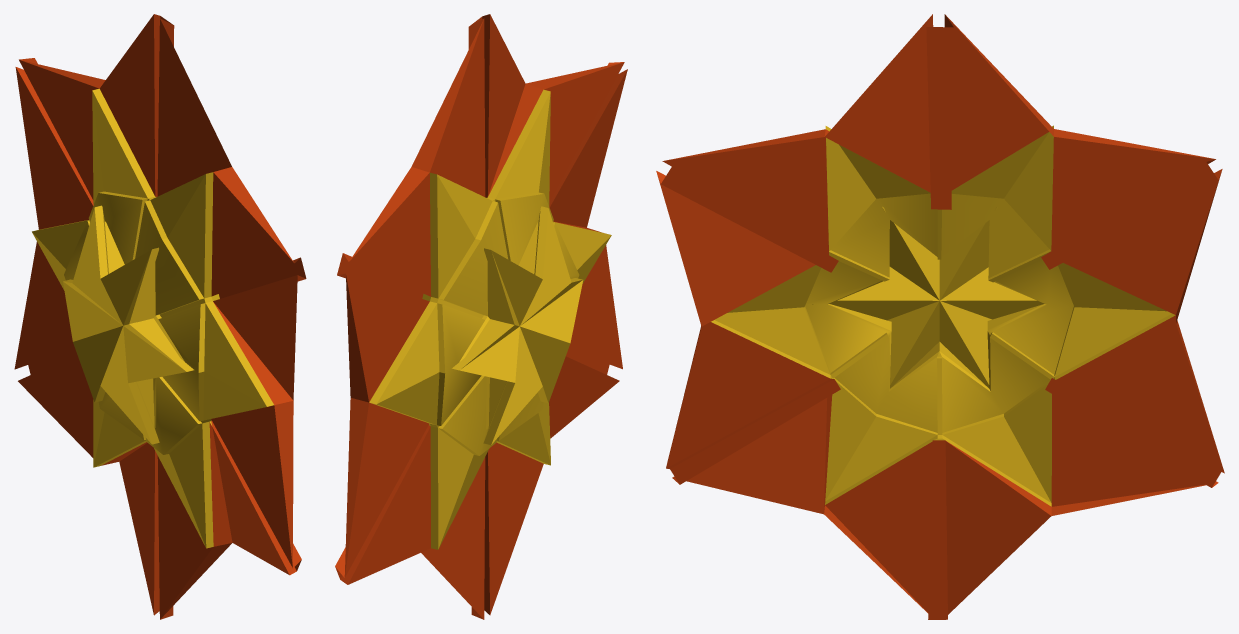
Rendered from Soleil.FBX.
3 views of the same model, side by side, from view 1: azimuth 30°, elevation 25°; view 2: azimuth 150°, elevation 25°; view 3: azimuth 270°, elevation 25° (orthographic).
Parts seen in each view (by area): view 1: Sun; view 2: Sun; view 3: Sun.
Part boxes in pixels (box(x1,y1,x2,y2)): Sun: box(14, 14, 306, 619); Sun: box(335, 14, 627, 619); Sun: box(656, 14, 1224, 619).
Size of the model in its own units: 170 by 1314 by 1122.
